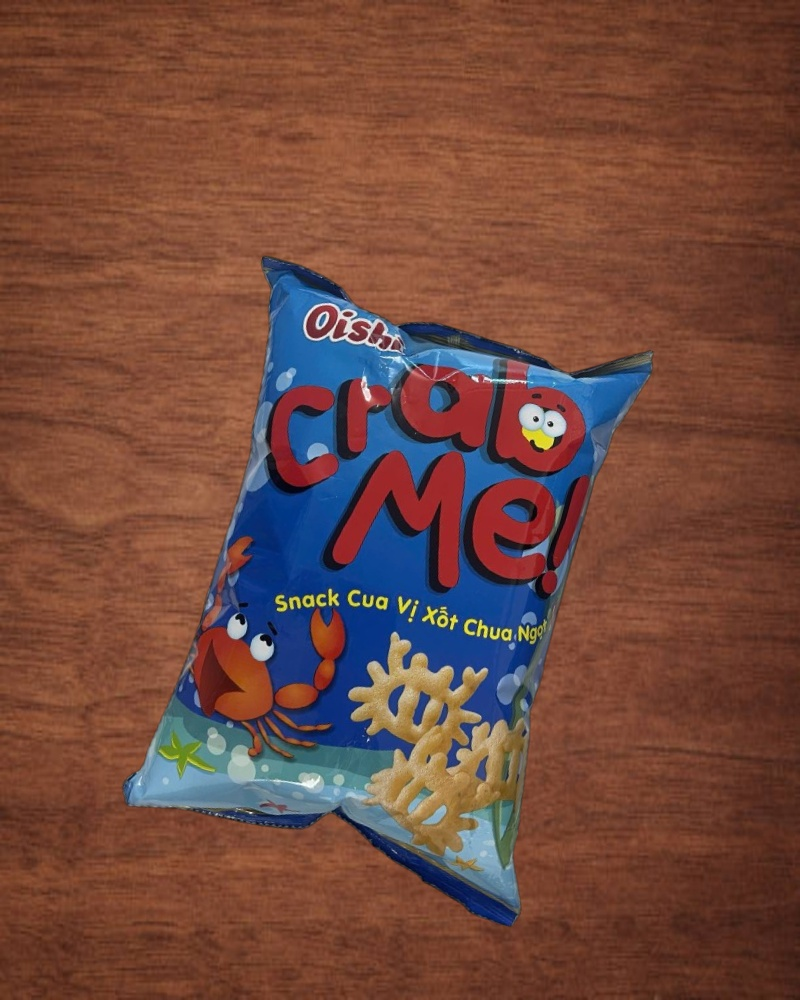Snack cua: (114, 249, 669, 923)
